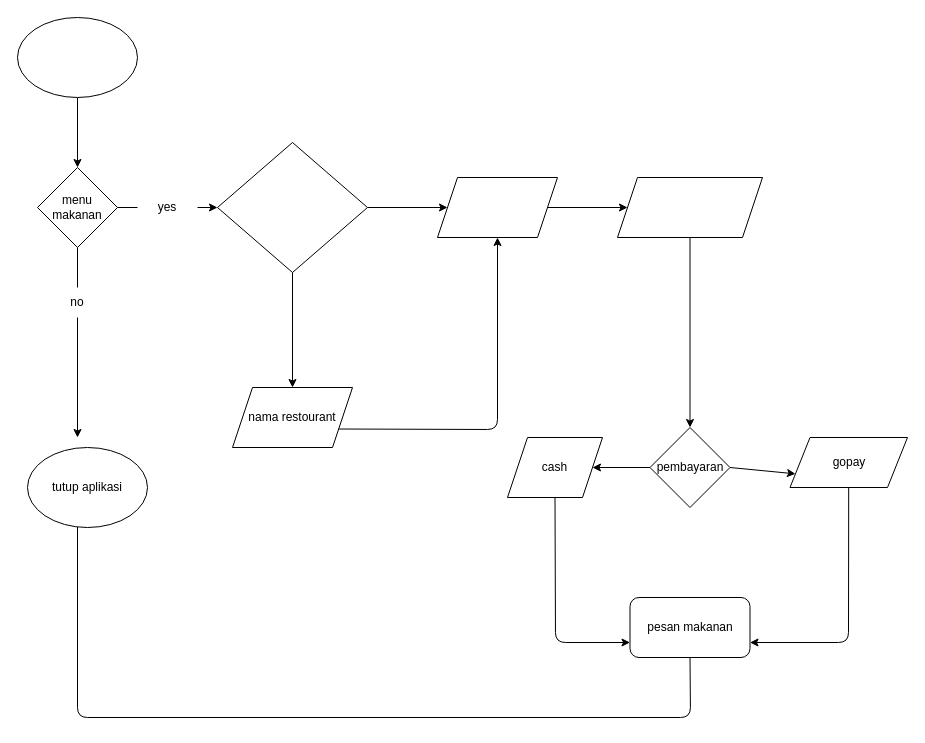
Image size: 925x743. Some labels were removed from this diagram. Each missing label, with the centre of its shape:
"buka aplikasi pesan makanan via online" goes at pixel 77 57.
"memasukkan menu tambahan" goes at pixel 689 207.
"memasukkan nama makanan atau nama restourant" goes at pixel 292 207.
"nama makanan" goes at pixel 497 207.
